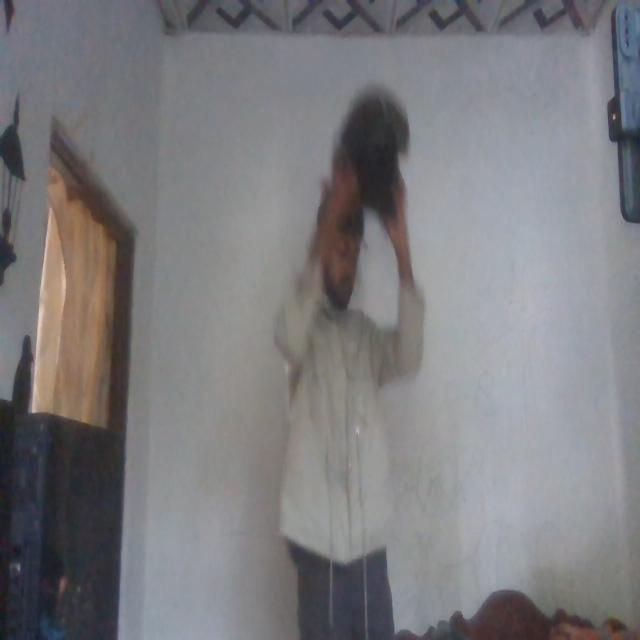Jacket_Wearer: (267, 286, 429, 566)
Person: (263, 158, 427, 640)
